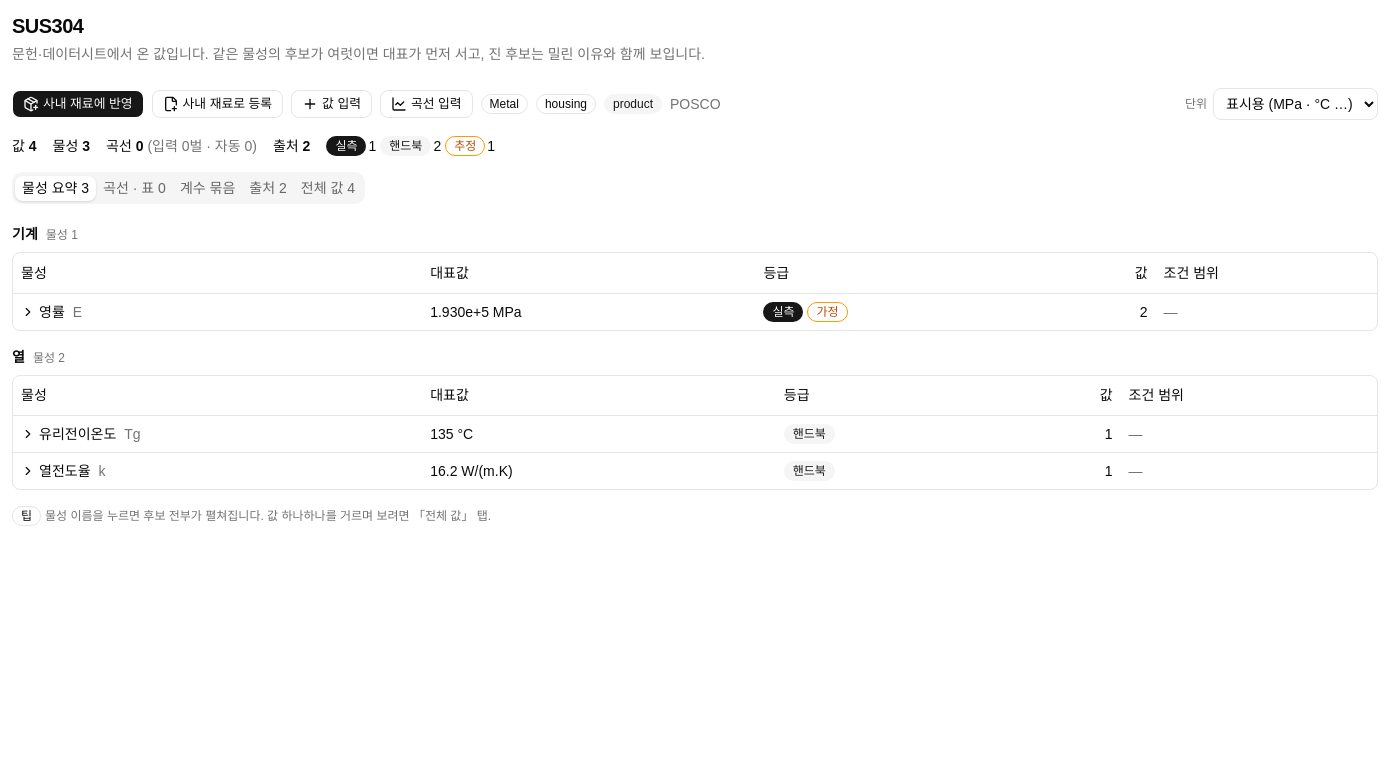
Test: 요약 + 탭 (2026-10-22) › 기본은 물성 요약 — 물성 하나에 한 줄이고, 펼치면 후보가 선다
Expected: the element named "문헌 재료 요약" shows "값 4", [12,136,495,156]
Expected: the element named "문헌 재료 요약" shows "물성 3", [12,136,495,156]
Click the button with aria-label "영률 펼치기" at (52,312), box [21,302,82,322]
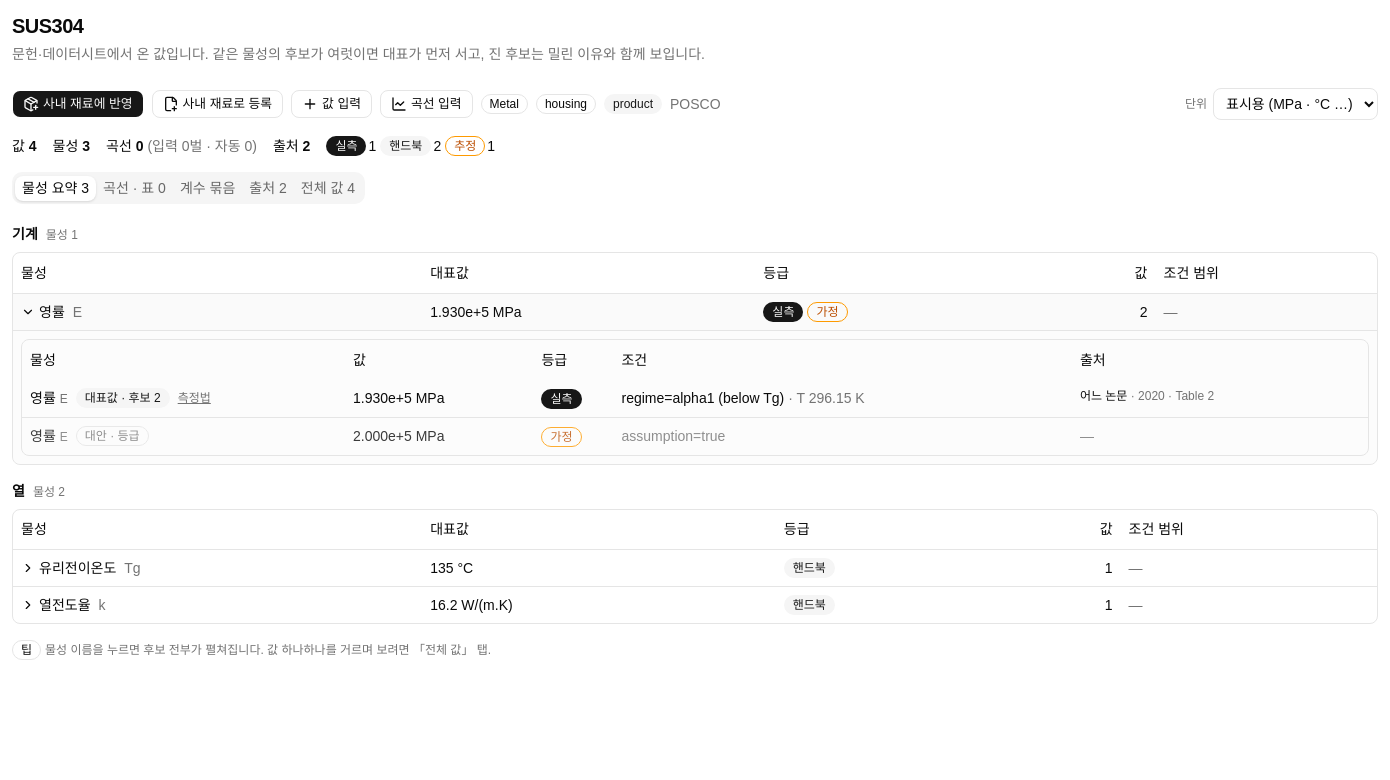
Now the text "대표값 · 후보 2" is shown, box [76,388,170,408]
Now the text "대안 · 등급" is shown, box [76,426,149,446]
